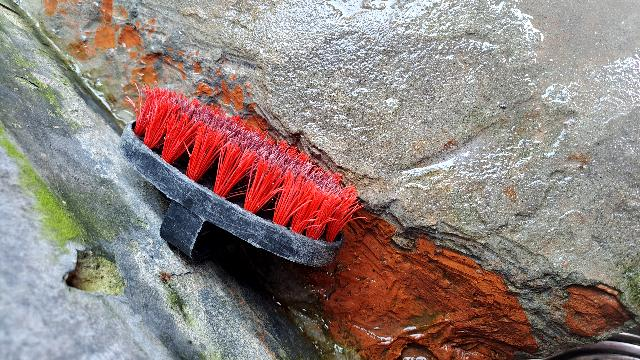hardplastic: (108, 75, 372, 280)
